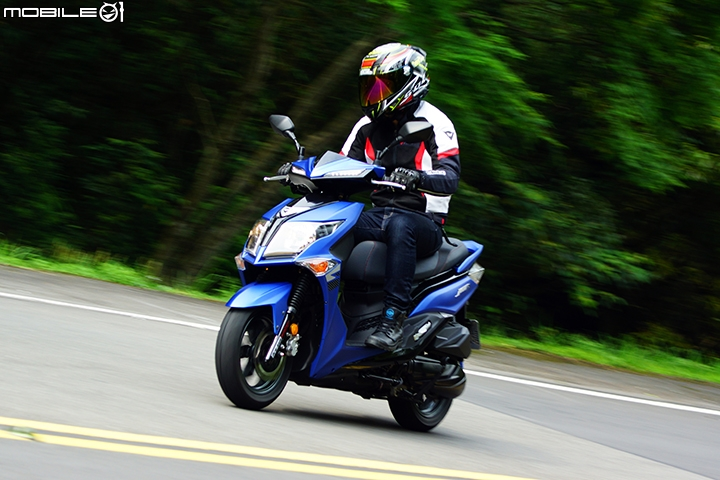helmet: (351, 47, 439, 117)
